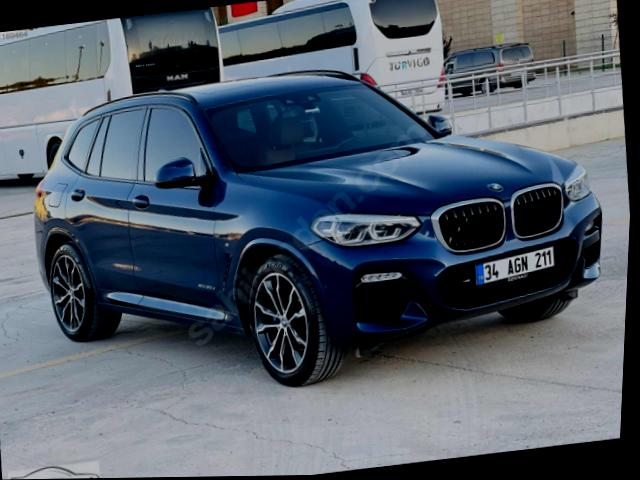plaka: (476, 246, 554, 285)
